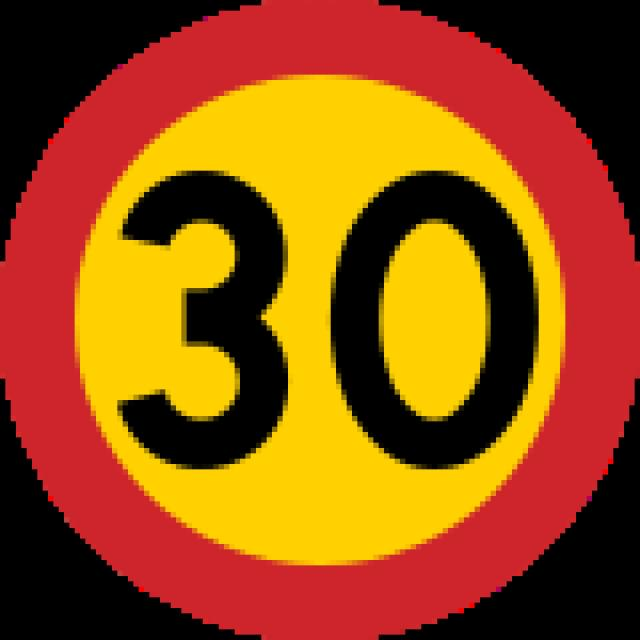Speed Limit -30-: (90, 147, 554, 476)
